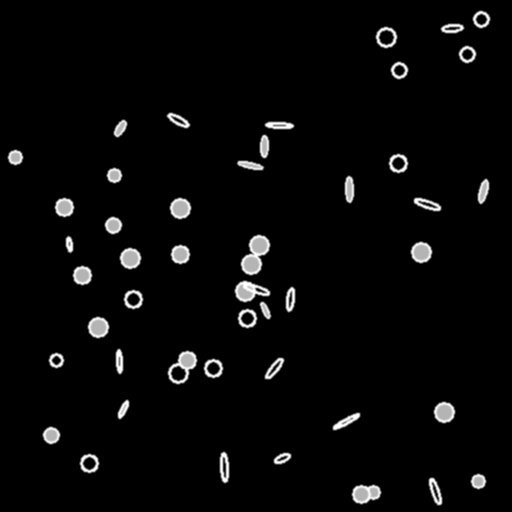pseudomonas: (263, 356, 285, 380), (332, 412, 360, 430), (166, 111, 190, 129), (428, 477, 442, 505), (413, 197, 441, 211), (243, 282, 269, 296), (477, 179, 489, 203), (237, 160, 263, 170), (113, 119, 127, 137), (220, 452, 228, 482), (285, 288, 295, 310), (259, 301, 271, 319), (117, 400, 129, 418), (273, 452, 291, 464), (260, 135, 268, 157), (442, 24, 462, 32), (346, 176, 352, 202), (266, 122, 292, 128), (116, 350, 122, 372), (65, 236, 73, 252)
synechocystis: (250, 236, 268, 254), (412, 243, 430, 261), (236, 282, 254, 300), (435, 403, 453, 421), (377, 28, 395, 46), (89, 318, 107, 336), (169, 364, 187, 382), (171, 199, 189, 217), (121, 249, 139, 267), (242, 255, 260, 273), (390, 155, 406, 171), (172, 246, 188, 262), (205, 360, 221, 376), (56, 199, 72, 215), (239, 310, 255, 326), (81, 455, 97, 471), (179, 352, 195, 368), (353, 486, 369, 502), (74, 267, 90, 283), (125, 291, 141, 307), (106, 218, 120, 232), (460, 47, 474, 61), (474, 12, 488, 26), (392, 63, 406, 77), (44, 428, 58, 442), (108, 169, 120, 181), (367, 486, 379, 498), (50, 354, 62, 366), (472, 475, 484, 487), (9, 151, 21, 163)
